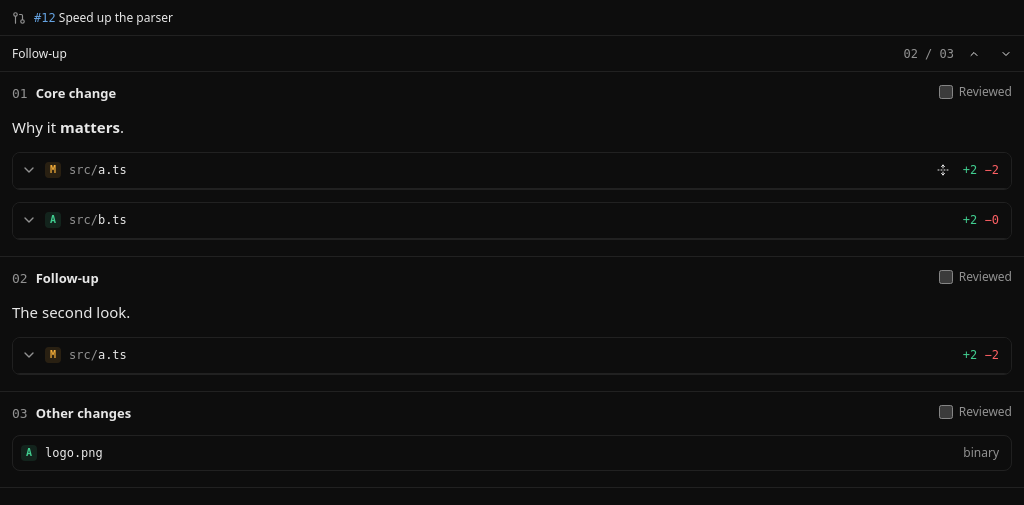
Scenario: GuideView › keeps a jump's section over the scroll it causes, and reads the scroll after a jump that didn't
Earlier steps of the test are not shown.
Later steps or results of the test are not shown.
Expected: the element with test id "guide-bar" reads "Follow-up 02 / 03", [0,36,1023,72]
Click the button named "Next section".
click(1006, 54)  # box [994,42,1018,66]
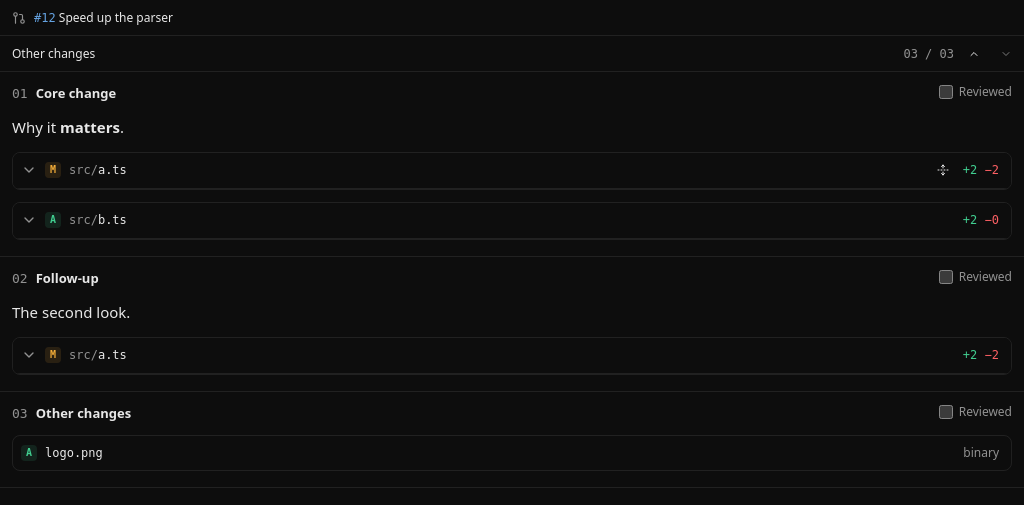
Expected: the element with test id "guide-bar" reads "Other changes 03 / 03", [0,36,1023,72]
